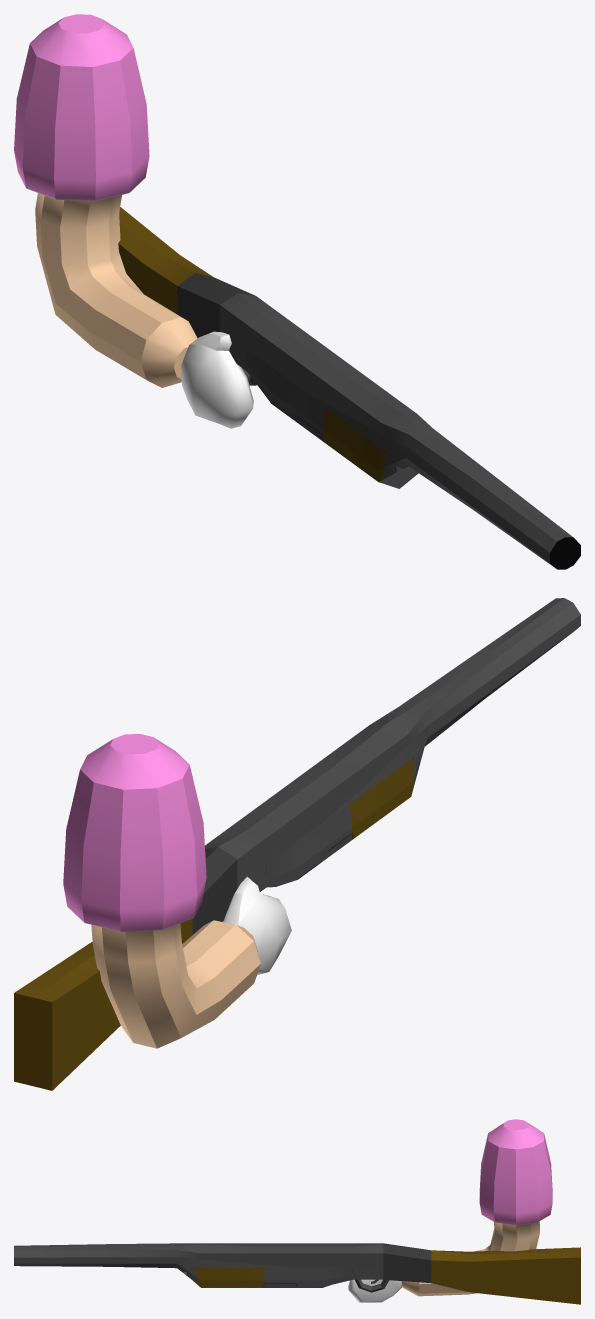
The model's file is sg_ojosama_R.obj.
3 renders of one model, top to bottom at view 1: azimuth 30°, elevation 25°; view 2: azimuth 150°, elevation 25°; view 3: azimuth 270°, elevation 25°, orthographic. The views are drawn at different scales.
Parts seen in each view (by area): view 1: R pCylinder4 group5 R, pasted__pCylinder1 pasted__group1 group7 R, R group5 R pasted__pCube3; view 2: pasted__pCylinder1 pasted__group1 group7 R, R pCylinder4 group5 R, R group5 R pasted__pCube3; view 3: pasted__pCylinder1 pasted__group1 group7 R, R pCylinder4 group5 R, R group5 R pasted__pCube3.
Part boxes in pixels (bbox=[...]): R pCylinder4 group5 R: bbox=[14, 14, 197, 387]; pasted__pCylinder1 pasted__group1 group7 R: bbox=[118, 207, 580, 569]; R group5 R pasted__pCube3: bbox=[181, 331, 253, 428]; pasted__pCylinder1 pasted__group1 group7 R: bbox=[14, 598, 580, 1090]; R pCylinder4 group5 R: bbox=[63, 734, 260, 1048]; R group5 R pasted__pCube3: bbox=[222, 876, 291, 975]; pasted__pCylinder1 pasted__group1 group7 R: bbox=[14, 1243, 580, 1304]; R pCylinder4 group5 R: bbox=[401, 1119, 552, 1296]; R group5 R pasted__pCube3: bbox=[348, 1279, 401, 1302].
Size of the model in its own units: 0.2261 by 0.5598 by 1.66.
1 material, 1 textured.
